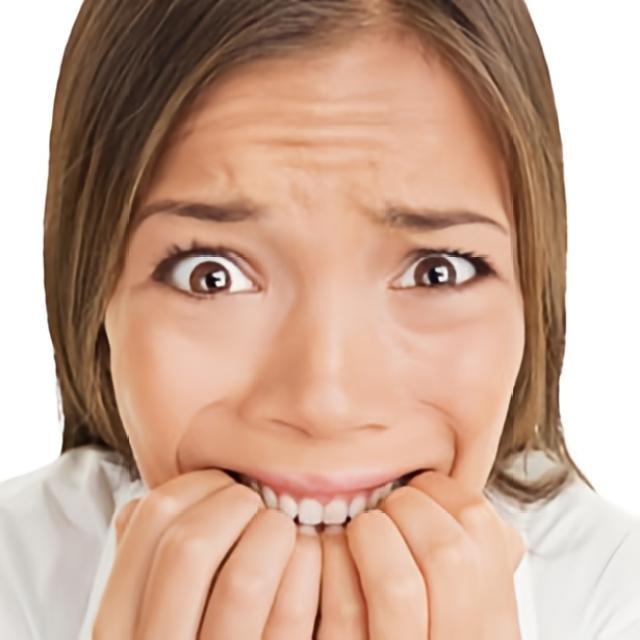fear: (101, 25, 528, 617)
